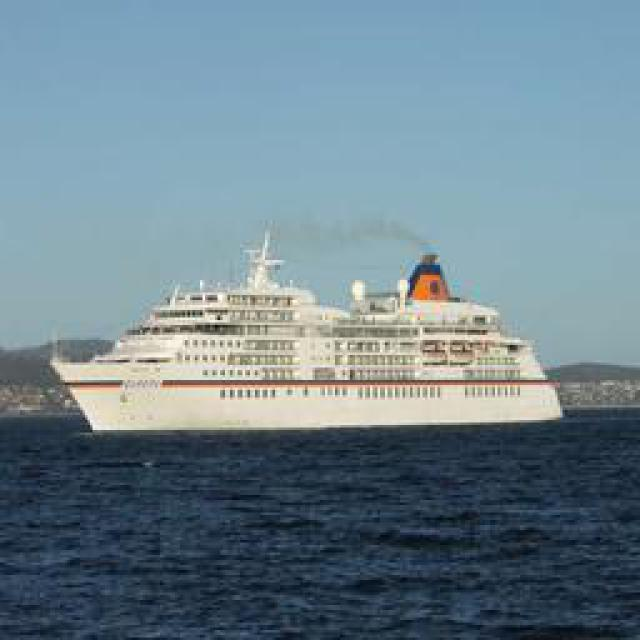Ship: (54, 227, 569, 440)
